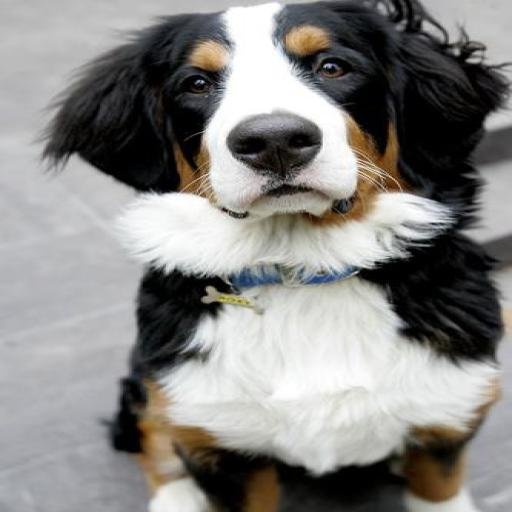dog_face: (56, 6, 476, 213)
